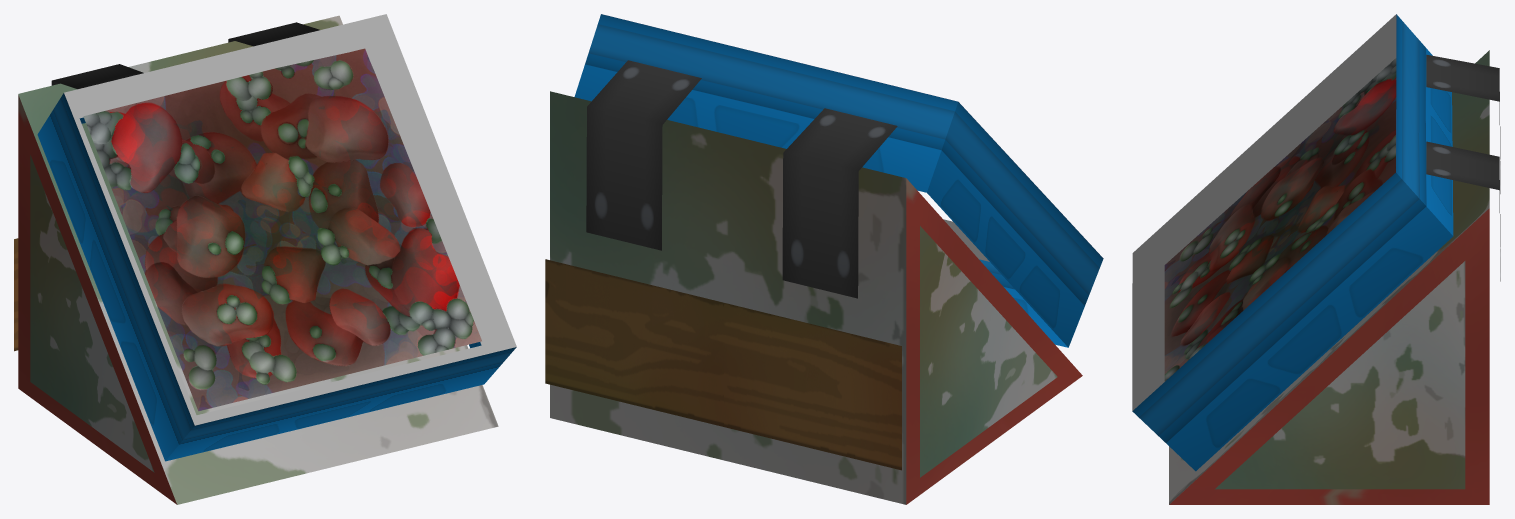
File: obj_decor_basket_lod1.fbx
3 renders of one model, left to right at view 1: azimuth 30°, elevation 25°; view 2: azimuth 150°, elevation 25°; view 3: azimuth 270°, elevation 25°, orthographic. The views are drawn at different scales.
Parts seen in each view (by area): view 1: obj_decor_basket_lod1; view 2: obj_decor_basket_lod1; view 3: obj_decor_basket_lod1.
Part boxes in pixels (x1,y1,x2,y2): obj_decor_basket_lod1: (14,14,516,504); obj_decor_basket_lod1: (545,14,1103,504); obj_decor_basket_lod1: (1132,14,1500,504).
Bounding box in the file's own units: 4.01 × 3.93 × 3.94.
